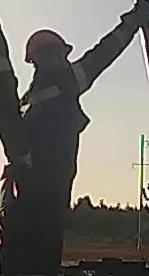gloves: (120, 2, 149, 31)
helmet: (23, 29, 74, 63)
vest: (23, 62, 90, 170)
